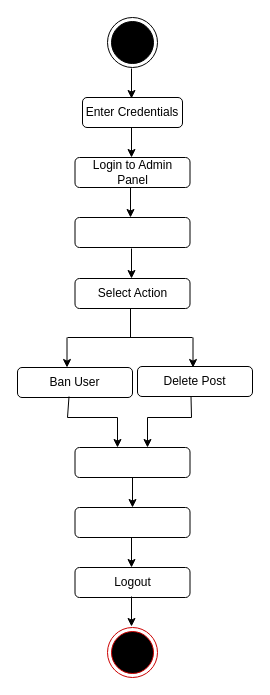
The diagram is 270 pixels wide and 695 high, and some of its shapes have lost their labels. Each missing label, with the centre of its shape:
"Update Database" goes at point 132,462.
"View Analytics" goes at point 132,522.
"View User/Posts" goes at point 132,232.
